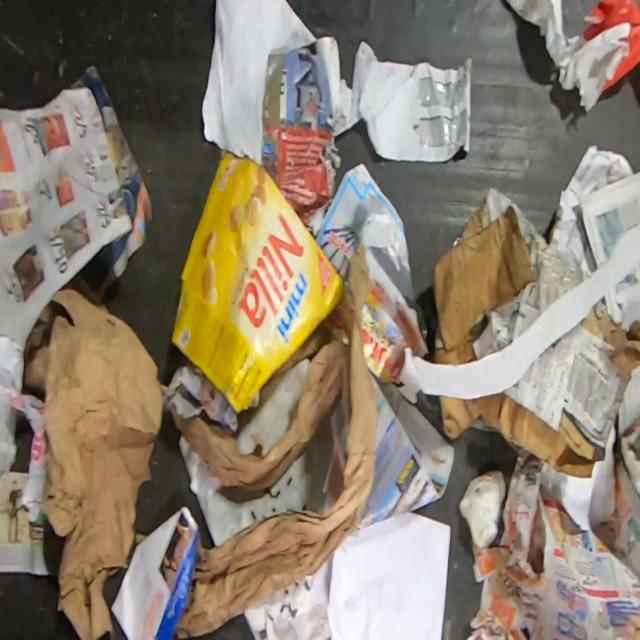cardboard: (170, 151, 344, 415), (395, 219, 640, 403), (438, 298, 640, 478), (432, 186, 590, 364)
rigid_plastic: (582, 0, 640, 94)
